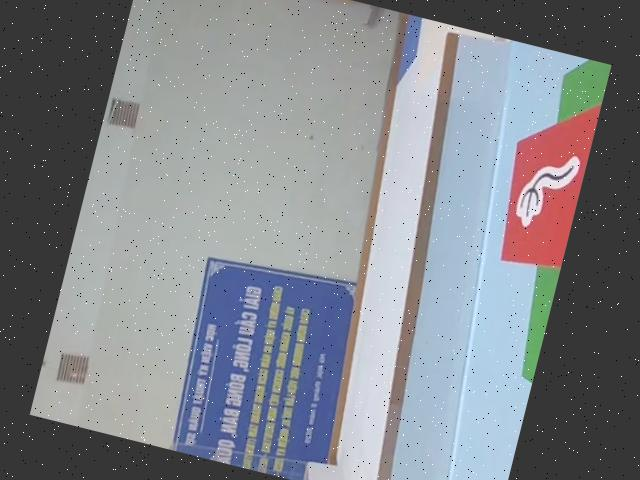R2 Real: (483, 80, 603, 277)
